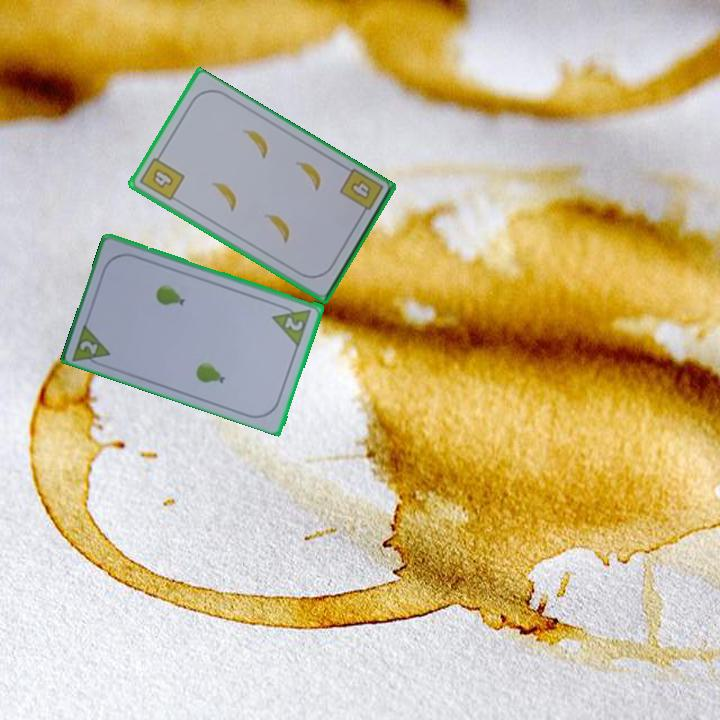2p: (69, 318, 114, 370), (269, 300, 315, 347)
4b: (136, 149, 188, 204), (336, 165, 386, 220)
